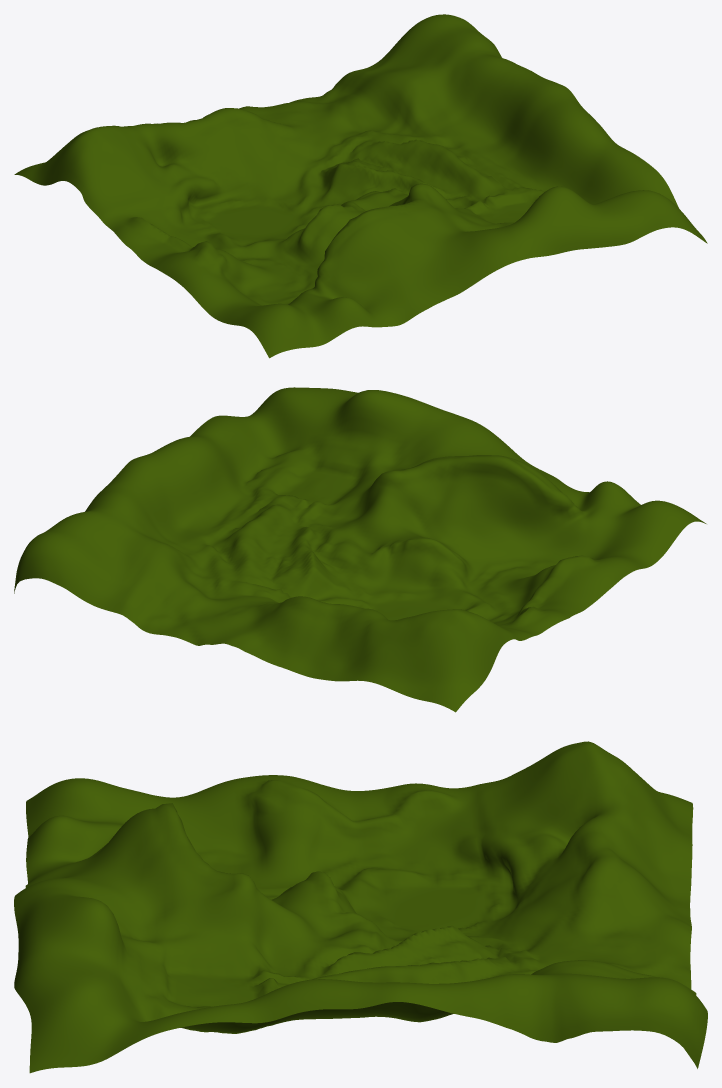
Rendered from forestModel_04.glb.
3 renders of one model, top to bottom at view 1: azimuth 30°, elevation 25°; view 2: azimuth 150°, elevation 25°; view 3: azimuth 270°, elevation 25°, orthographic. The views are drawn at different scales.
Visible parts, largest first — view 1: OLD.001; view 2: OLD.001; view 3: OLD.001.
Boxes of the visible parts, x1,y1,x2,y2 form: OLD.001: (14,14,707,358); OLD.001: (14,387,706,712); OLD.001: (14,741,707,1073).
Size of the model in its own units: 201 by 37.72 by 204.
